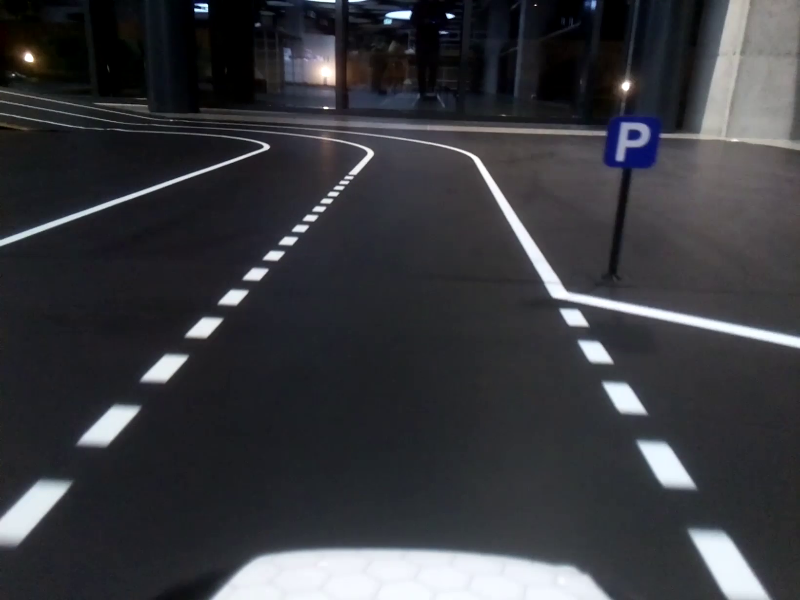park: (602, 114, 658, 170)
